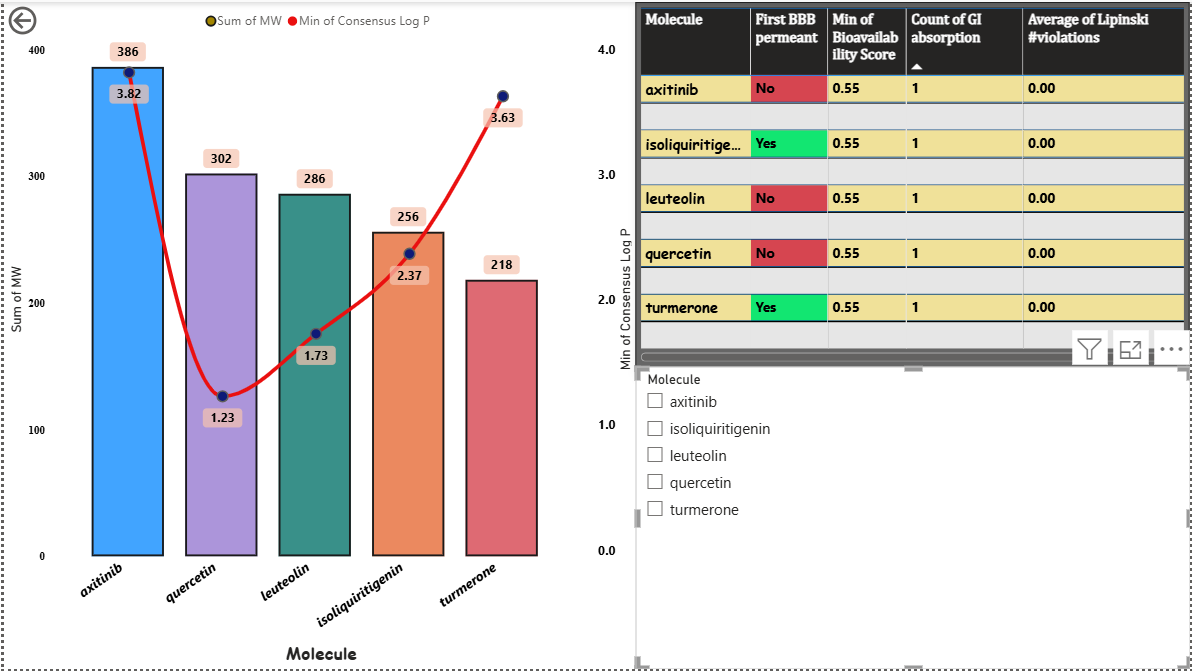

What the dashboard file says about the page in this screenshot:
{"tool":"powerbi","page":{"name":"swiss adme analysis ","canvas":[1280,720],"ordinal":1},"visuals":[{"type":"lineStackedColumnComboChart","fields":{"Category":["swissadme result.Molecule"],"Y":["Sum(swissadme result.MW)"],"Y2":["Min(swissadme result.Consensus Log P)"]},"box":[0,0,682,720],"z":0},{"type":"actionButton","box":[0,0,100,40],"z":1000},{"type":"pivotTable","fields":{"Rows":["swissadme result.Molecule"],"Values":["Min(swissadme result.BBB permeant)","Min(swissadme result.Bioavailability Score)","Count(swissadme result.GI absorption)","Avg(swissadme result.Lipinski #violations)"]},"box":[682,0,598,394],"z":2000},{"type":"slicer","fields":{"Values":["swissadme result.Molecule"]},"box":[682,394,598,326],"z":3000}]}

Visuals, with their boxes in screenshot pixels (x1, y1, x2, y2), scaled from the page's 1280x720 canvas onto the 1192x671 screenshot:
lineStackedColumnComboChart - swissadme result.Molecule x Sum(swissadme result.MW): x1=0 y1=0 x2=635 y2=670
actionButton: x1=0 y1=0 x2=93 y2=37
pivotTable - swissadme result.Molecule x Min(swissadme result.BBB permeant): x1=635 y1=0 x2=1191 y2=367
slicer - swissadme result.Molecule: x1=635 y1=367 x2=1191 y2=670
